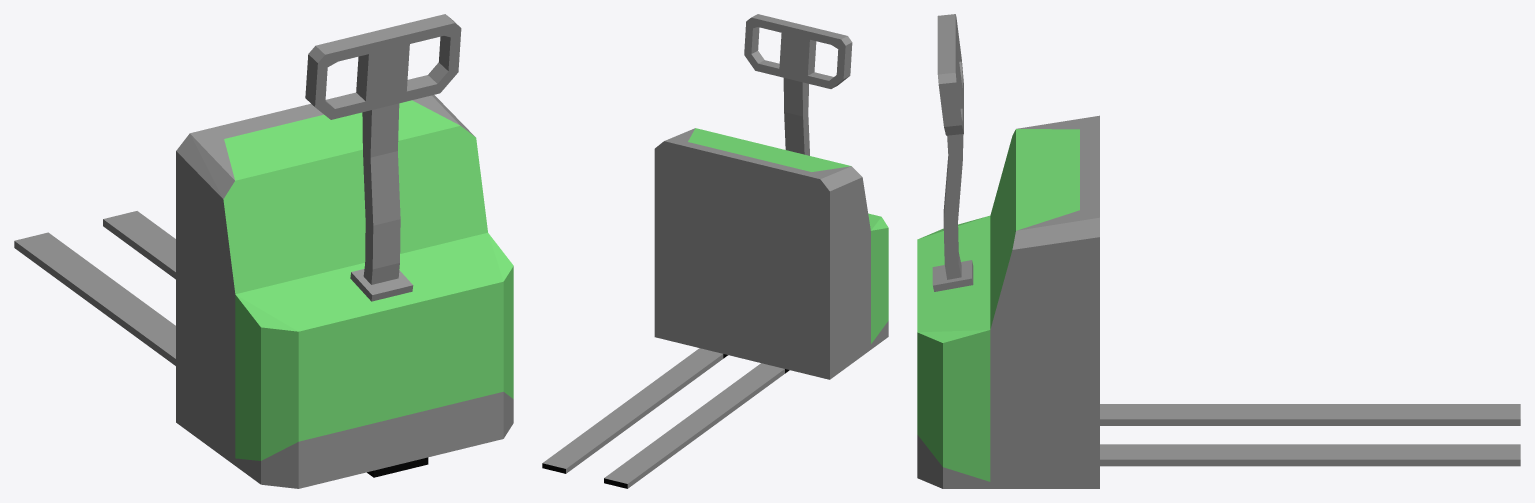
Rendered from PallLyft.glb.
The picture shows the model from 3 angles, left to right: view 1: azimuth 30°, elevation 25°; view 2: azimuth 150°, elevation 25°; view 3: azimuth 270°, elevation 25°; orthographic projection. The views are drawn at different scales.
Parts seen in each view (by area): view 1: imagetostl_mesh; view 2: imagetostl_mesh; view 3: imagetostl_mesh.
Part boxes in pixels (x1,y1,x2,y2): imagetostl_mesh: (14,14,513,488); imagetostl_mesh: (542,14,888,488); imagetostl_mesh: (917,14,1520,488).
Size of the model in its own units: 29.13 by 46.92 by 64.96.
